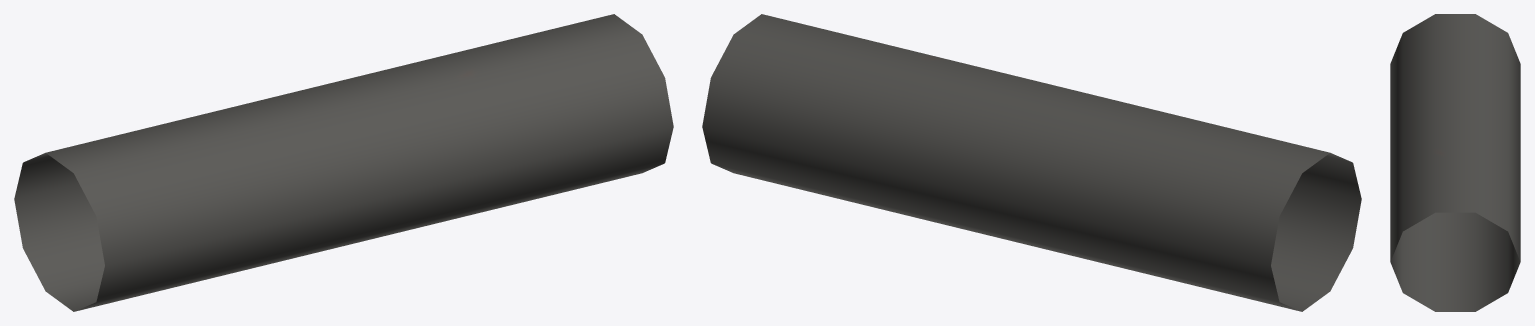
File: SM_StraightPipe.fbx
3 renders of one model, left to right at view 1: azimuth 30°, elevation 25°; view 2: azimuth 150°, elevation 25°; view 3: azimuth 270°, elevation 25°, orthographic. The views are drawn at different scales.
Visible parts, largest first — view 1: StraightPipe; view 2: StraightPipe; view 3: StraightPipe.
Boxes of the visible parts, <box> form: StraightPipe: <box>14,14,673,311</box>; StraightPipe: <box>702,14,1361,311</box>; StraightPipe: <box>1390,14,1520,311</box>.
Bounding box in the file's own units: 97 × 22.61 × 26.84.
